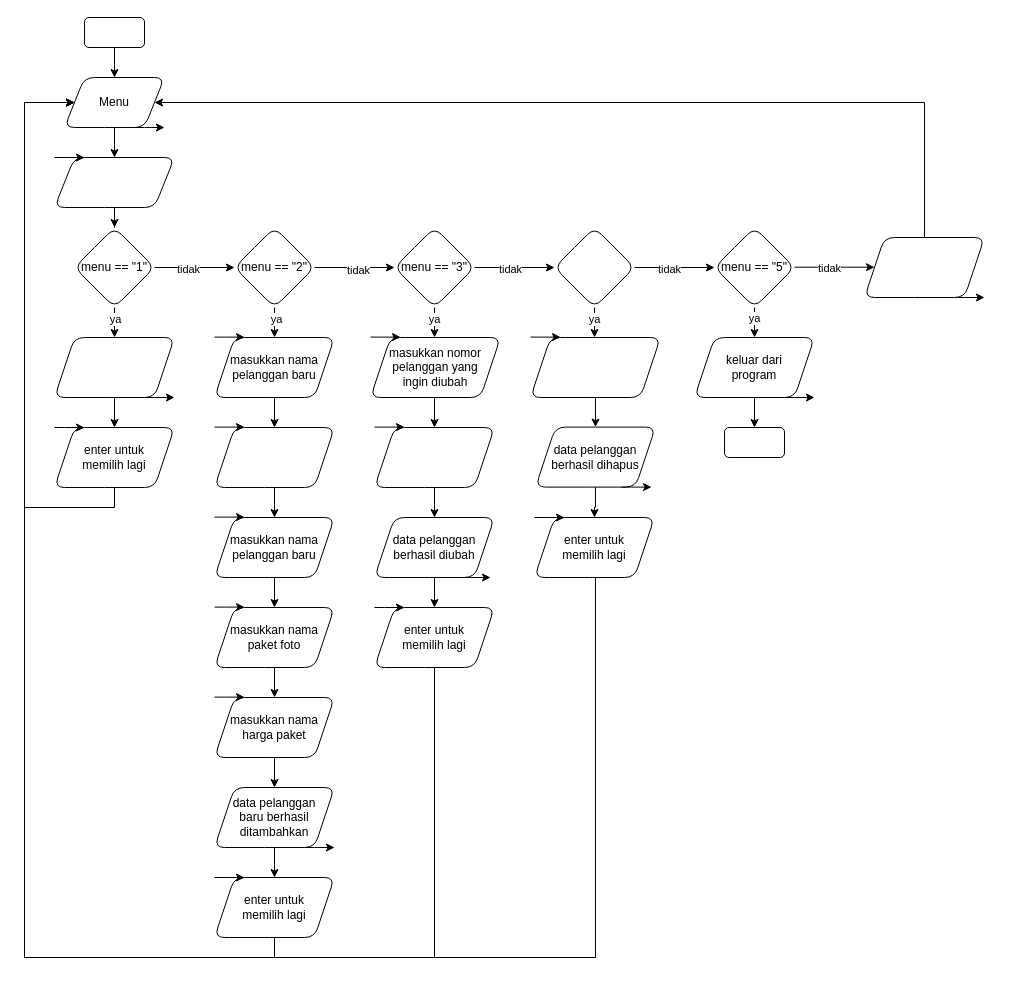
Some shapes in this 1010 by 983 pixel diagram are drawn without their labels. The shapes that lost their labels are listed below. From the top down, each one's box as (x1, y1, x2, y2) in pixels, then its label:
(84, 16, 144, 48): Mulai
(54, 156, 174, 208): input menu
(554, 226, 634, 308): menu == "4"
(864, 236, 984, 298): menu tidak tersedia
(54, 336, 174, 398): menampilkan data pelanggan
(530, 336, 660, 398): masukkan nomor pelanggan yang ingin dihapus
(214, 426, 334, 488): masukkan tanggal booking
(374, 426, 494, 488): masukkan perubahan data pelanggan
(724, 426, 784, 458): selesai
